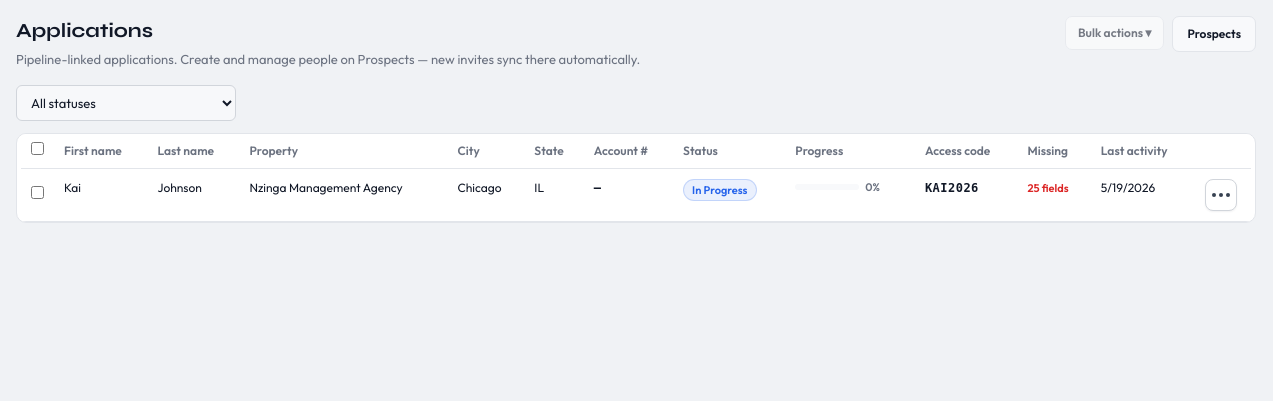
Test: ApplicationsModule › keeps Review application disabled until the application is submitted and complete
The width and height of the screenshot is (1273, 401).
Click the button named "Row actions" at [1221, 195], box [1205,179,1237,211]
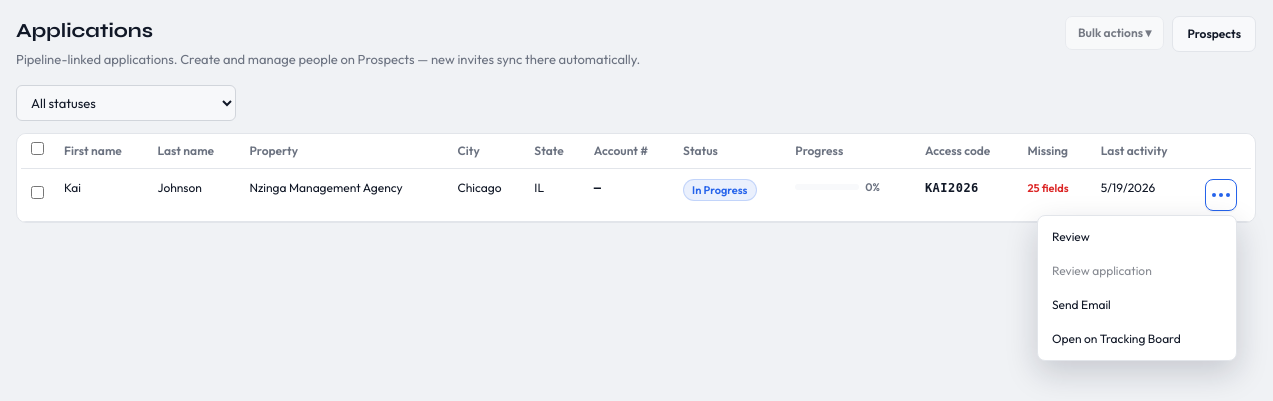
Expected: the menu item "Review application" is disabled, [1042,254,1232,288]
